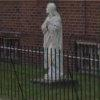Statue: (28, 3, 79, 75)
